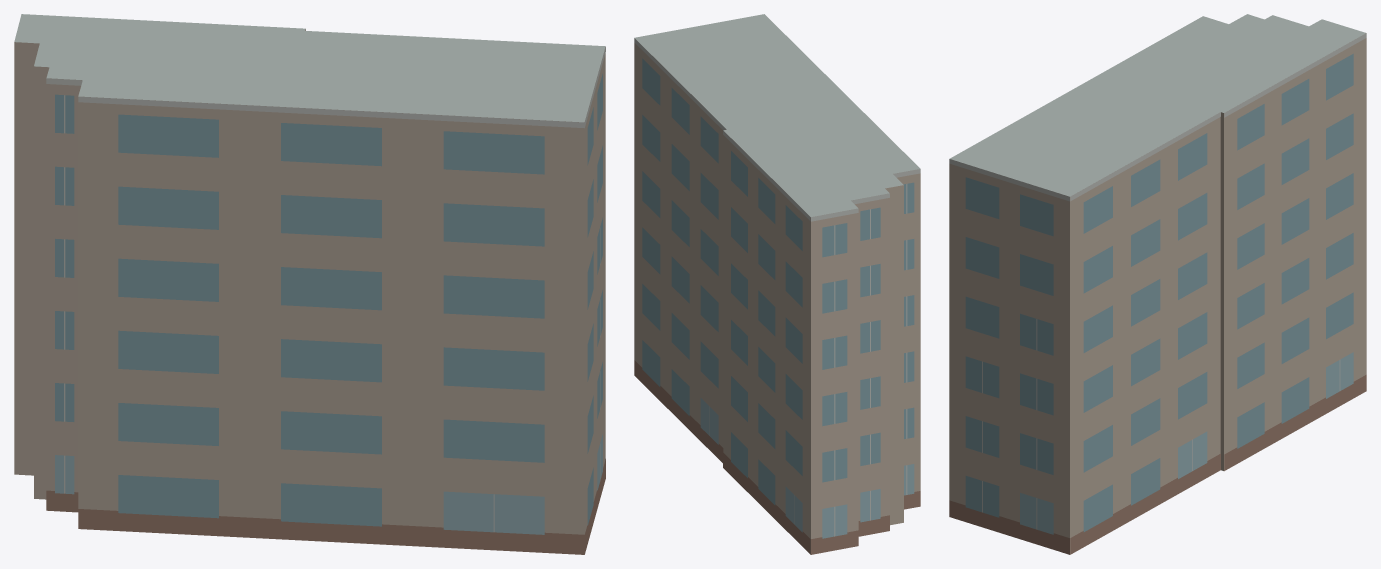
The model's file is survey-upis-32671695.glb.
3 renders of one model, left to right at view 1: azimuth 30°, elevation 25°; view 2: azimuth 150°, elevation 25°; view 3: azimuth 270°, elevation 25°, orthographic. The views are drawn at different scales.
Parts seen in each view (by area): view 1: survey-upis-32671695.tmp; view 2: survey-upis-32671695.tmp; view 3: survey-upis-32671695.tmp.
Part boxes in pixels (bbox=[...]): survey-upis-32671695.tmp: bbox=[14, 14, 605, 554]; survey-upis-32671695.tmp: bbox=[634, 14, 920, 554]; survey-upis-32671695.tmp: bbox=[949, 14, 1366, 554].
Size of the model in its own units: 20.04 by 18.3 by 19.33.
